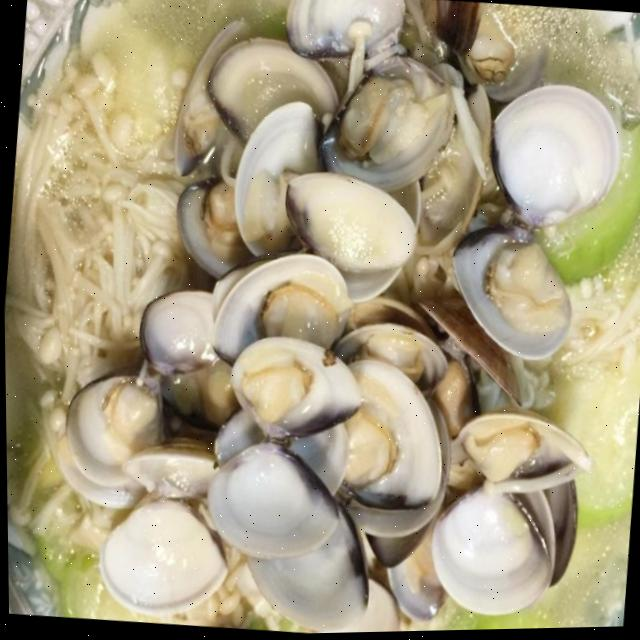Wet: (39, 0, 640, 639)
